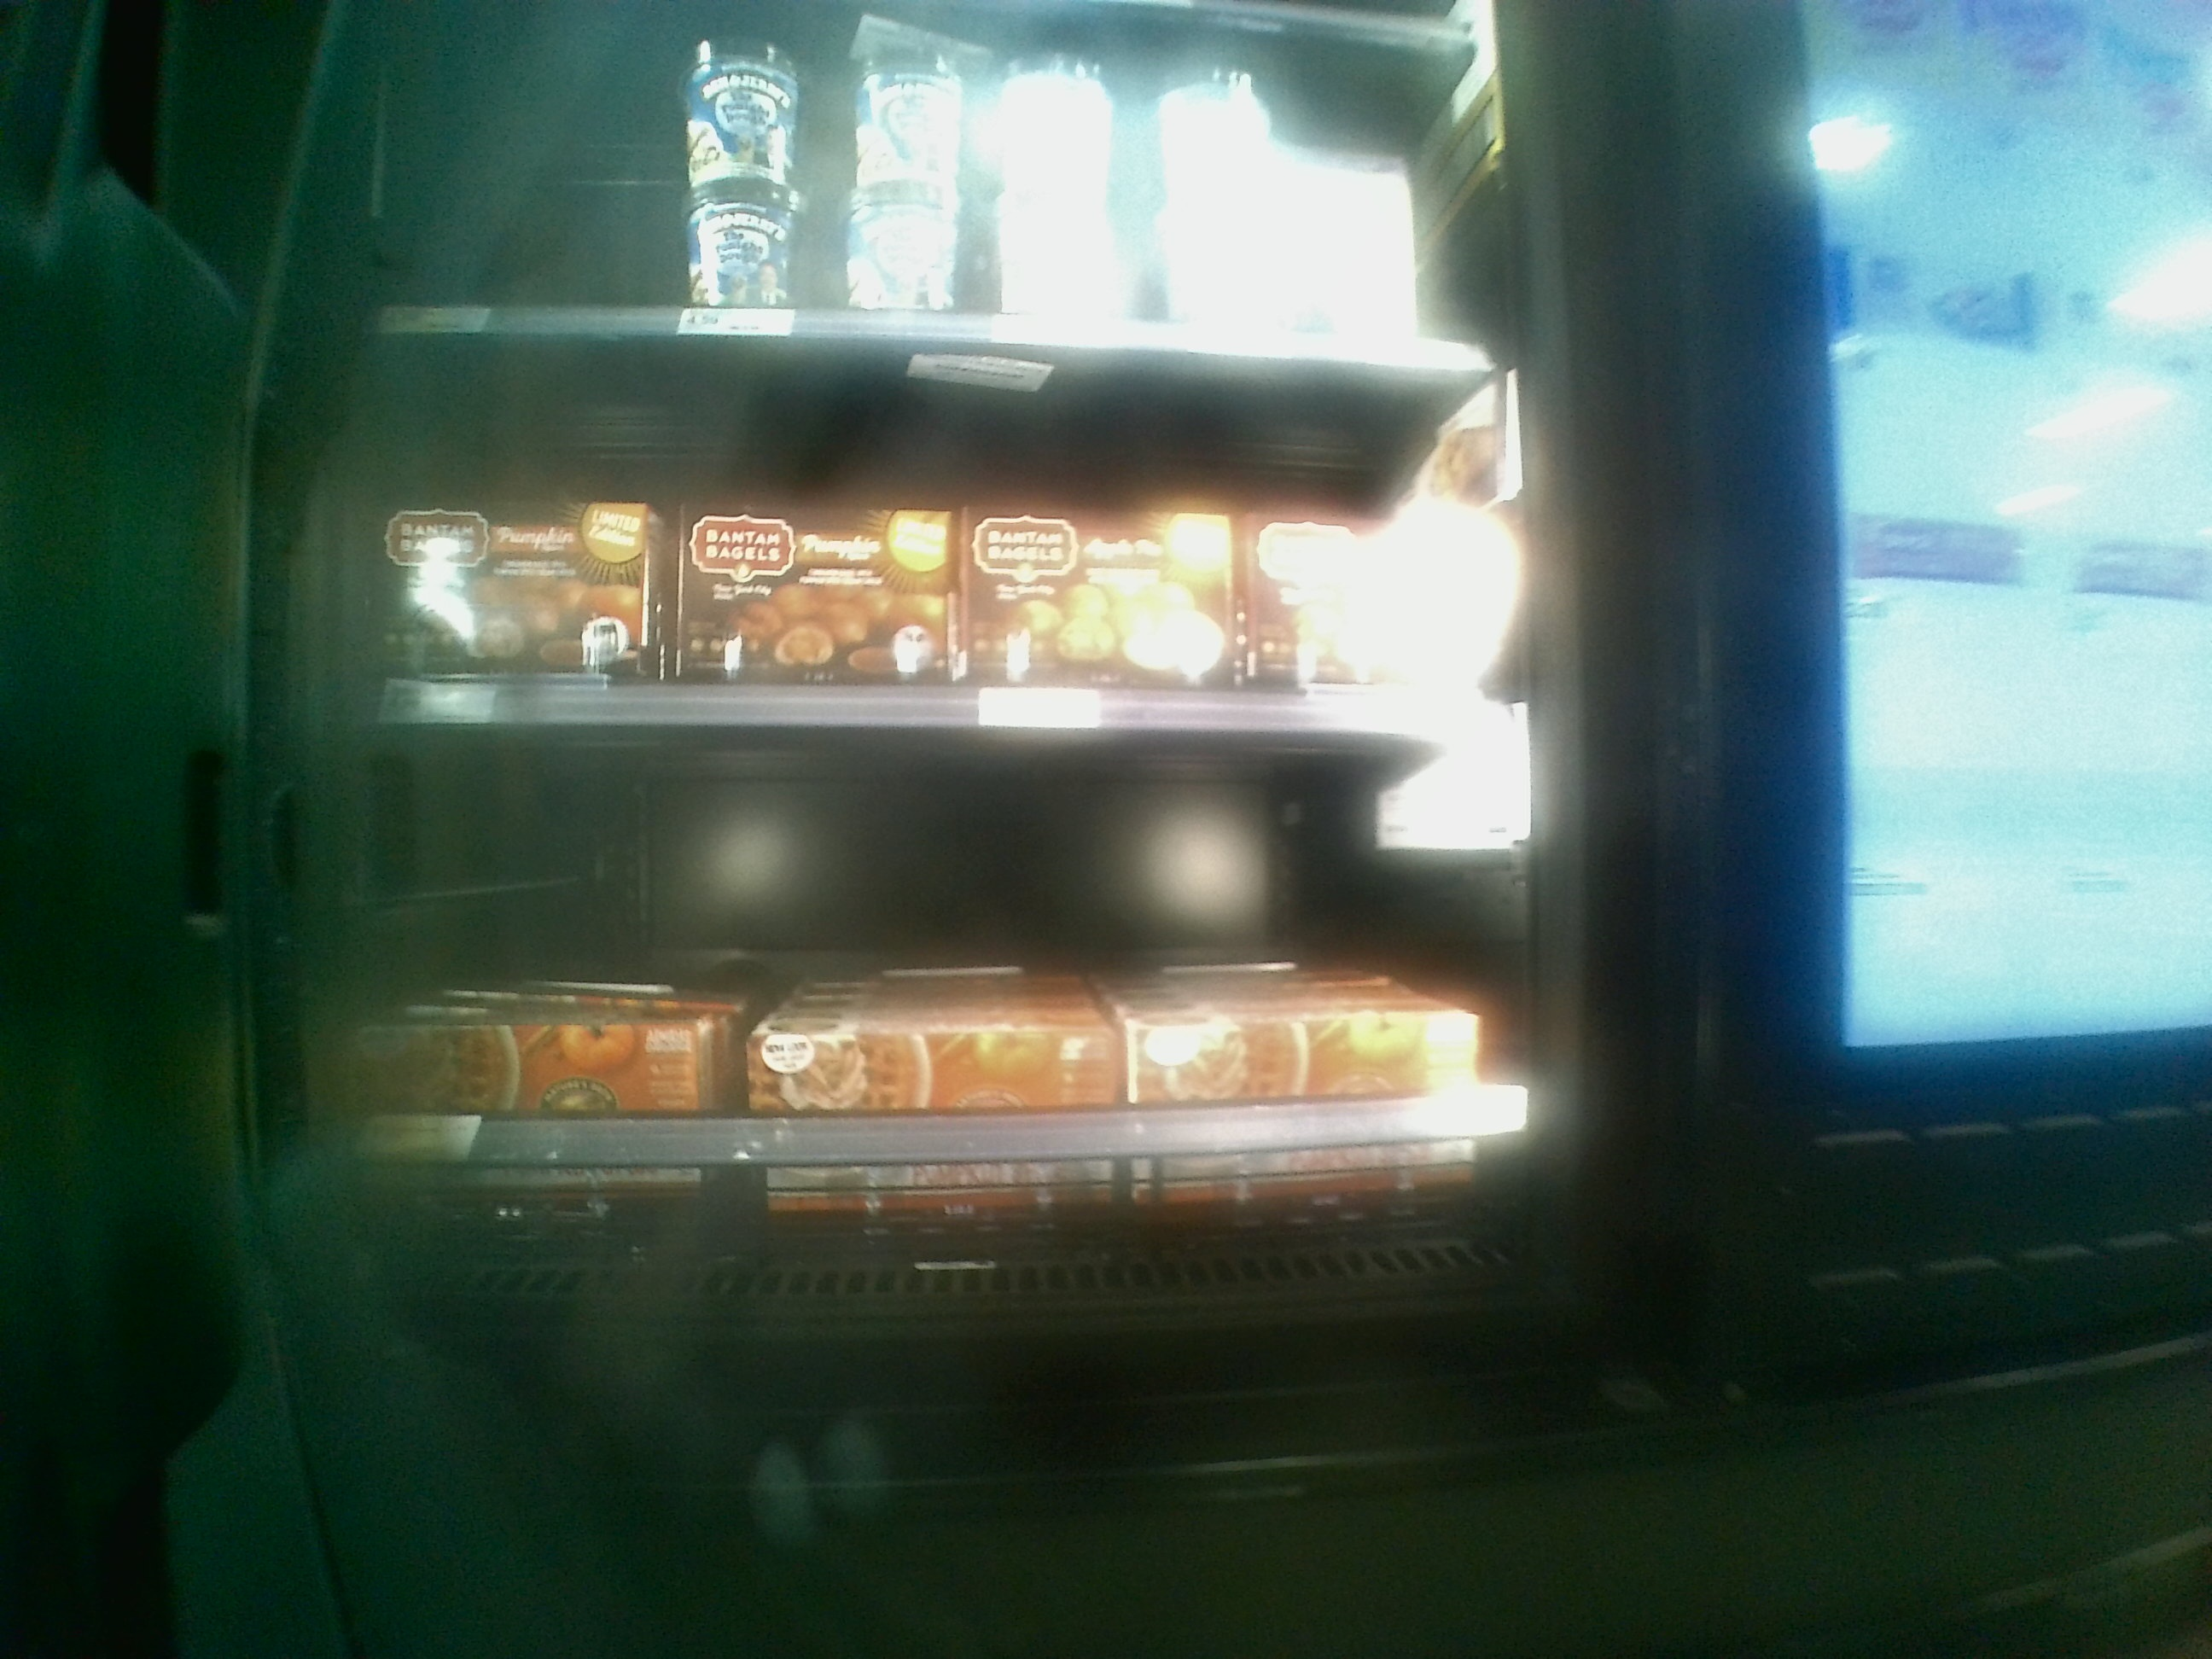shelf: (327, 713, 1554, 1331), (347, 324, 1514, 755)
